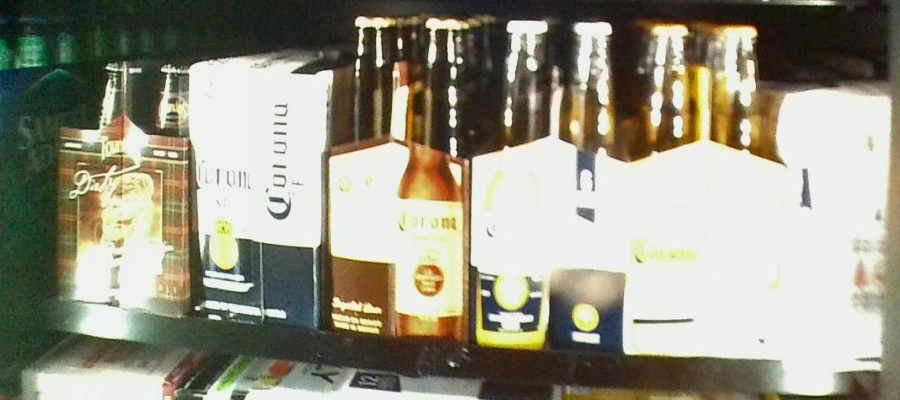bottle: (478, 18, 633, 354), (631, 19, 782, 359), (329, 17, 472, 342), (56, 53, 193, 316), (195, 58, 326, 330), (785, 94, 900, 365)
